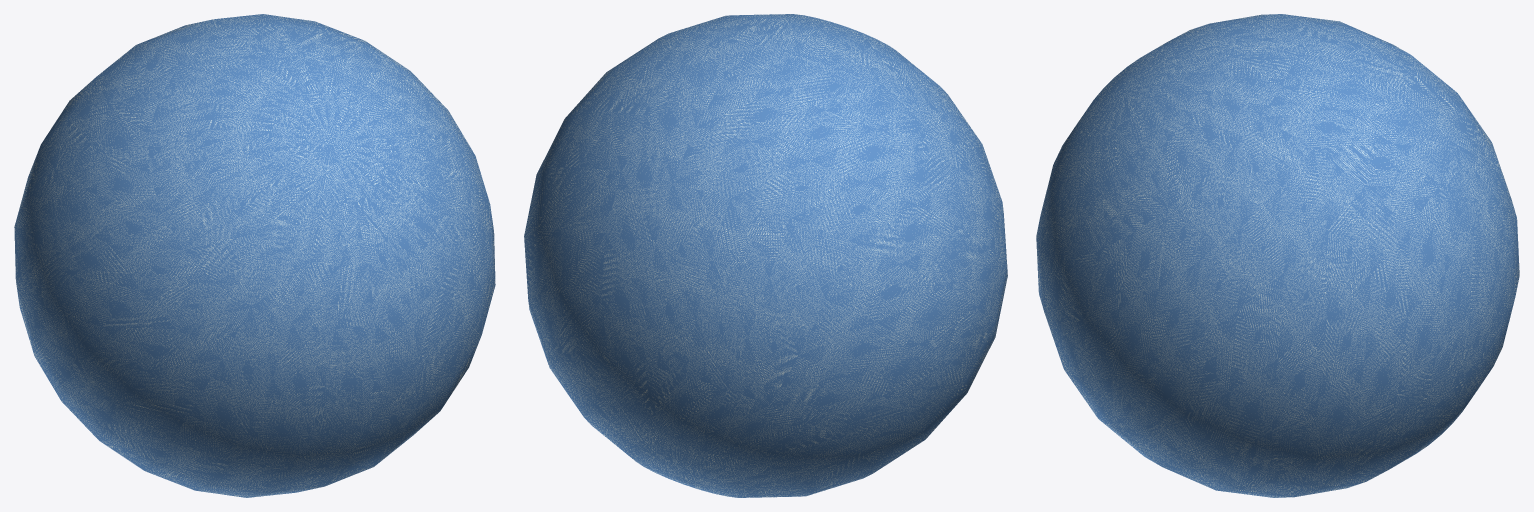
The model's file is original-7.obj.
3 views of the same model, side by side, from view 1: azimuth 30°, elevation 25°; view 2: azimuth 150°, elevation 25°; view 3: azimuth 270°, elevation 25° (orthographic).
Parts seen in each view (by area): view 1: Group8/mesh9/mesh9-geometry#mesh9-geometry; view 2: Group8/mesh9/mesh9-geometry#mesh9-geometry; view 3: Group8/mesh9/mesh9-geometry#mesh9-geometry.
Part boxes in pixels (box(x1,y1,x2,y2)): Group8/mesh9/mesh9-geometry#mesh9-geometry: box(14, 14, 495, 497); Group8/mesh9/mesh9-geometry#mesh9-geometry: box(524, 14, 1007, 497); Group8/mesh9/mesh9-geometry#mesh9-geometry: box(1036, 14, 1519, 497).
Size of the model in its own units: 0.0218 by 0.0217 by 0.0217.
